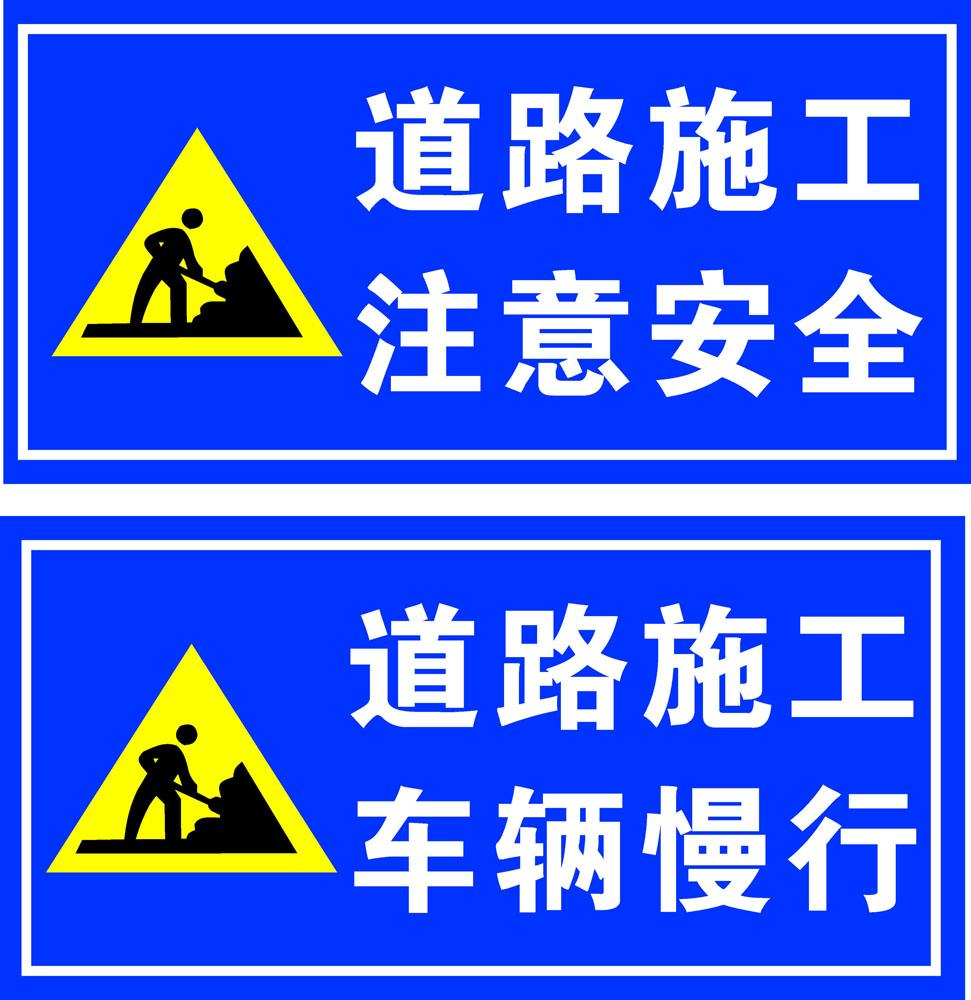sign: (17, 24, 959, 456), (23, 544, 943, 975)
